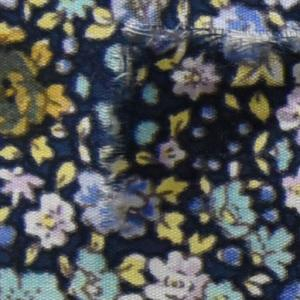Damage: (100, 21, 300, 291)
Oil Stain: (1, 26, 77, 153)
